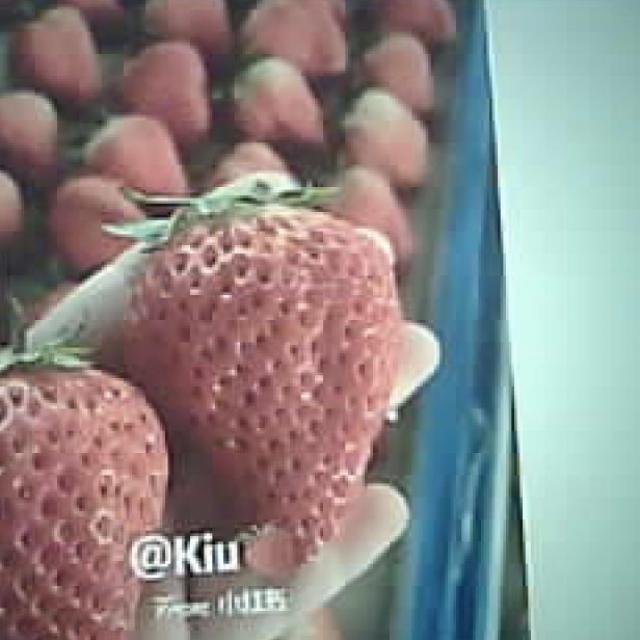Healthy Fruit: (119, 183, 407, 576), (0, 359, 170, 638)
